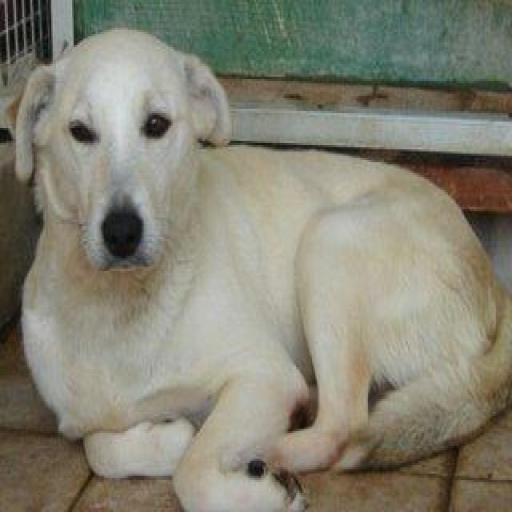dog_face: (19, 36, 248, 294)
